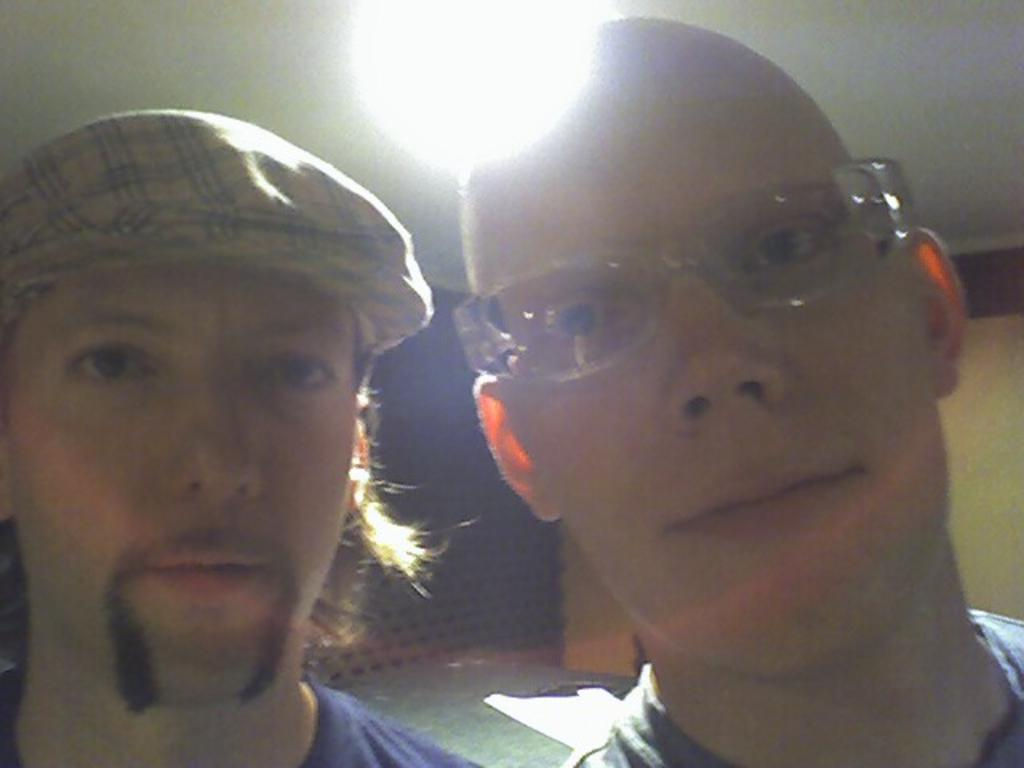Hat: (0, 112, 443, 368)
